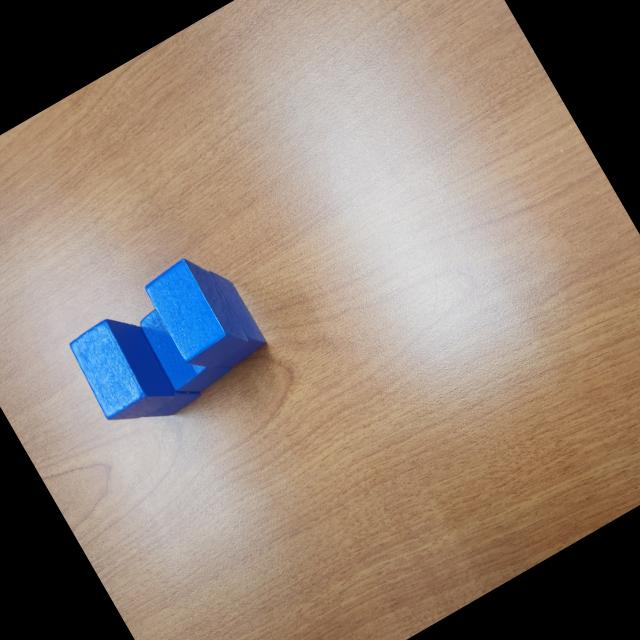blue: (62, 304, 184, 438), (140, 250, 253, 378), (170, 261, 272, 379), (106, 316, 206, 428), (132, 290, 228, 403)
